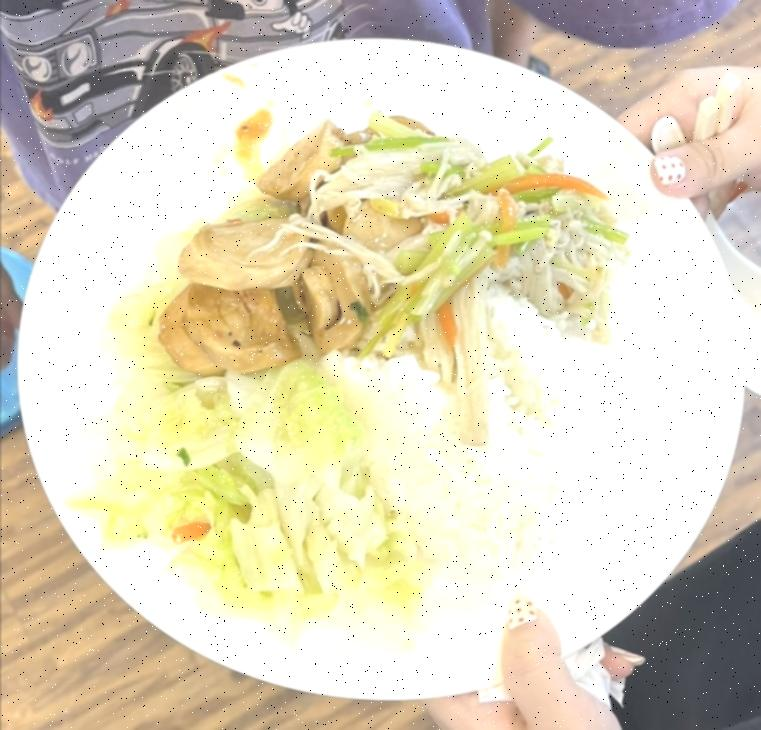big fried chicken leg: (22, 27, 752, 713)
big herbal chicken leg: (321, 276, 597, 587)
braised fish fillet: (88, 351, 414, 626), (158, 107, 408, 373), (343, 123, 637, 322)
